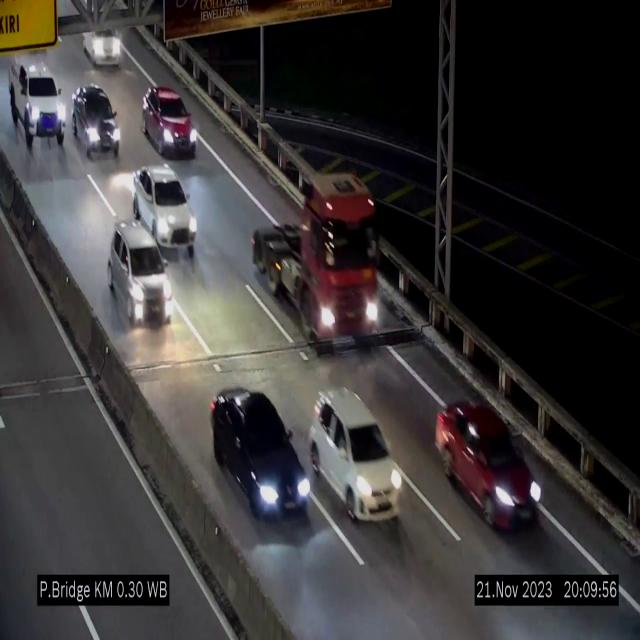Car: (249, 163, 382, 355), (438, 395, 543, 537), (212, 390, 312, 521), (311, 389, 404, 521), (110, 219, 171, 337), (132, 164, 195, 256), (9, 61, 65, 143), (144, 86, 196, 158), (72, 85, 120, 159), (79, 1, 127, 71)
